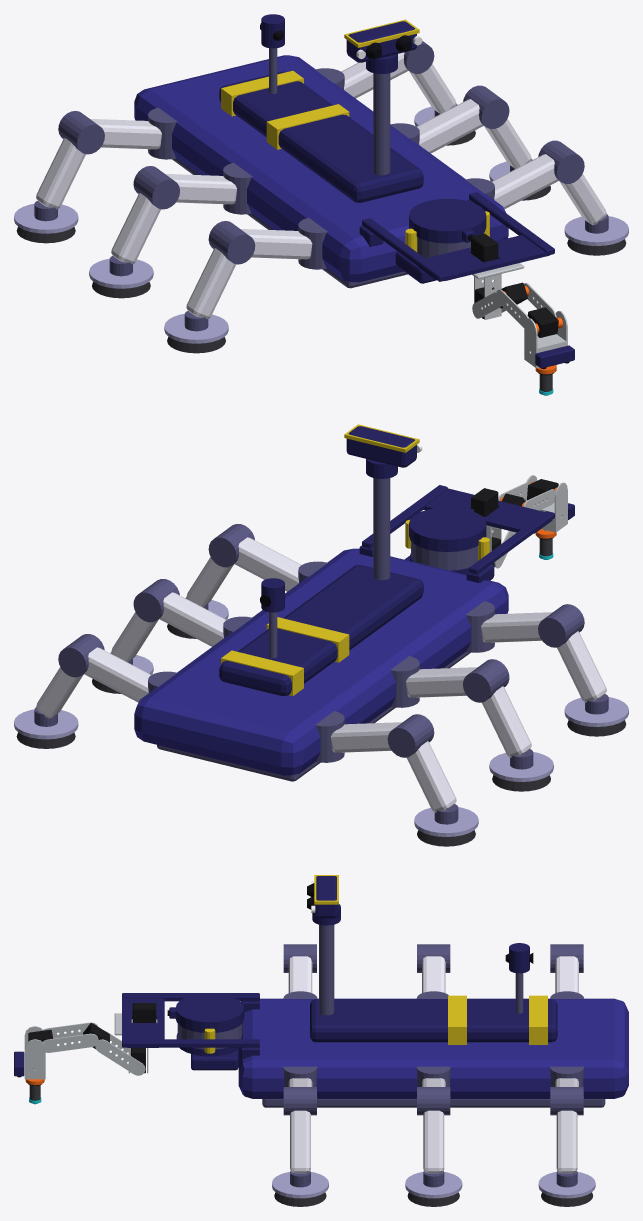
File: ShoreBot_Crawler.fbx
3 views of the same model, one above another, from view 1: azimuth 30°, elevation 25°; view 2: azimuth 150°, elevation 25°; view 3: azimuth 270°, elevation 25° (orthographic). The views are drawn at different scales.
Parts seen in each view (by area): view 1: Body, Body_Spine, Arm_ToolboxPlate, Arm_CMT_Toolbox, Leg_ML_Thigh, Leg_FL_Thigh, Camera_Mast, Leg_MR_Shin, Leg_FR_Shin, Leg_BR_Shin, Leg_BR_Thigh, Leg_FR_Thigh (+35 smaller); view 2: Body, Body_Spine, Arm_ToolboxPlate, Arm_CMT_Toolbox, Leg_ML_Thigh, Leg_BL_Thigh, Leg_FL_Thigh, Camera_WideStereo, Camera_Mast, Leg_MR_Shin, Leg_FR_Shin, Leg_BR_Shin (+28 smaller); view 3: Body, Body_Spine, Arm_ToolboxPlate, Arm_CMT_Toolbox, Body_Underplate, Camera_Mast, Elbow, Leg_BL_Shin, Leg_ML_Shin, Leg_FL_Shin, Shoulder, Leg_BL_FootRing (+22 smaller).
Boxes of the visible parts, left/top/right/bottom form: Body: left=134, top=55, right=508, bottom=282; Body_Spine: left=219, top=71, right=423, bottom=202; Arm_ToolboxPlate: left=359, top=192, right=554, bottom=281; Arm_CMT_Toolbox: left=409, top=198, right=486, bottom=243; Leg_ML_Thigh: left=416, top=99, right=483, bottom=153; Leg_FL_Thigh: left=491, top=154, right=558, bottom=209; Camera_Mast: left=373, top=73, right=390, bottom=175; Leg_MR_Shin: left=111, top=193, right=160, bottom=264; Leg_FR_Shin: left=186, top=248, right=236, bottom=319; Leg_BR_Shin: left=36, top=138, right=85, bottom=209; Leg_BR_Thigh: left=90, top=119, right=161, bottom=149; Leg_FR_Thigh: left=240, top=229, right=312, bottom=259; Body: left=134, top=548, right=508, bottom=775; Body_Spine: left=219, top=565, right=423, bottom=696; Arm_ToolboxPlate: left=359, top=485, right=554, bottom=582; Arm_CMT_Toolbox: left=409, top=507, right=486, bottom=551; Leg_ML_Thigh: left=159, top=592, right=226, bottom=646; Leg_BL_Thigh: left=84, top=647, right=150, bottom=702; Leg_FL_Thigh: left=234, top=537, right=301, bottom=591; Camera_WideStereo: left=346, top=426, right=416, bottom=467; Camera_Mast: left=373, top=478, right=390, bottom=580; Leg_MR_Shin: left=482, top=686, right=531, bottom=757; Leg_FR_Shin: left=557, top=631, right=606, bottom=702; Leg_BR_Shin: left=407, top=741, right=456, bottom=812; Body: left=238, top=998, right=628, bottom=1098; Body_Spine: left=310, top=999, right=557, bottom=1042; Arm_ToolboxPlate: left=122, top=993, right=259, bottom=1060; Arm_CMT_Toolbox: left=175, top=993, right=244, bottom=1032; Body_Underplate: left=262, top=1099, right=605, bottom=1107; Camera_Mast: left=319, top=924, right=334, bottom=1015; Elbow: left=28, top=1022, right=98, bottom=1052; Leg_BL_Shin: left=556, top=1110, right=577, bottom=1173; Leg_ML_Shin: left=423, top=1110, right=444, bottom=1173; Leg_FL_Shin: left=290, top=1110, right=310, bottom=1173; Shoulder: left=83, top=1023, right=145, bottom=1075; Leg_BL_FootRing: left=538, top=1172, right=595, bottom=1198.
Size of the model in its own units: 0.9808 by 0.5141 by 1.29.
